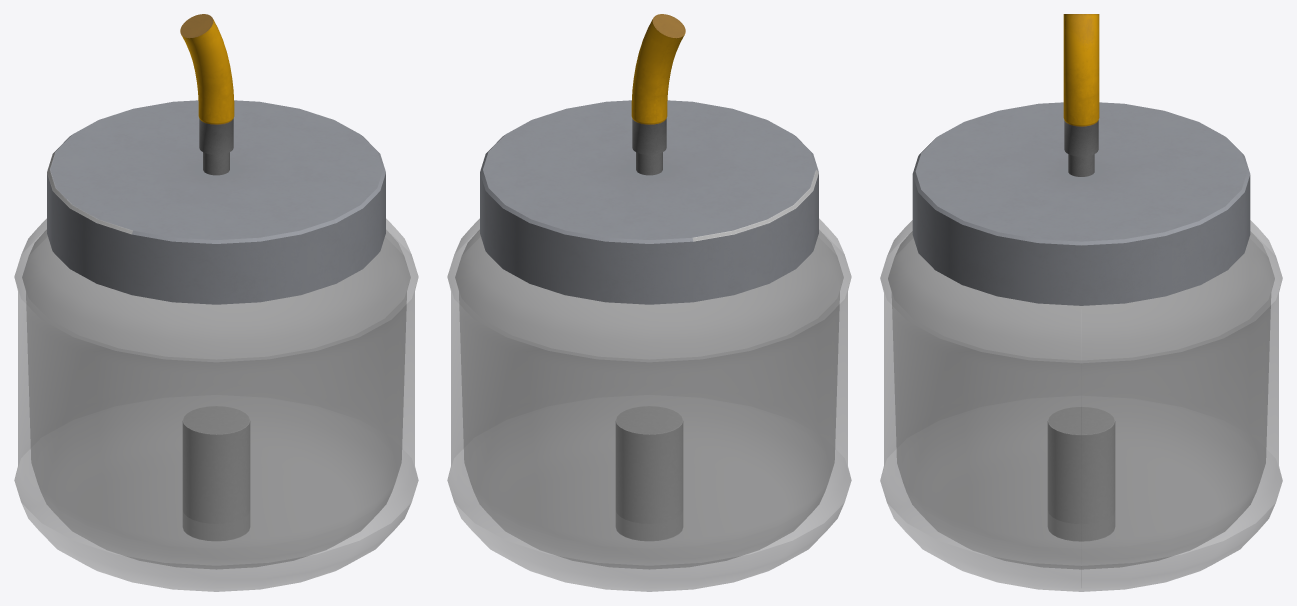
3 views of the same model, side by side, from view 1: azimuth 30°, elevation 25°; view 2: azimuth 150°, elevation 25°; view 3: azimuth 270°, elevation 25° (orthographic).
Parts seen in each view (by area): view 1: 303_JiaoZhu_ChouPaoJi_Shen, 303_JiaoZhu_ChouPaoJi_GaiZi, 303_JiaoZhu_ShiGao; view 2: 303_JiaoZhu_ChouPaoJi_Shen, 303_JiaoZhu_ChouPaoJi_GaiZi, 303_JiaoZhu_ShiGao; view 3: 303_JiaoZhu_ChouPaoJi_Shen, 303_JiaoZhu_ChouPaoJi_GaiZi, 303_JiaoZhu_ShiGao.
Boxes of the visible parts, <box> form: 303_JiaoZhu_ChouPaoJi_Shen: <box>14,218,418,591</box>; 303_JiaoZhu_ChouPaoJi_GaiZi: <box>47,14,385,304</box>; 303_JiaoZhu_ShiGao: <box>182,406,250,540</box>; 303_JiaoZhu_ChouPaoJi_Shen: <box>447,218,851,591</box>; 303_JiaoZhu_ChouPaoJi_GaiZi: <box>480,14,818,304</box>; 303_JiaoZhu_ShiGao: <box>615,406,683,540</box>; 303_JiaoZhu_ChouPaoJi_Shen: <box>880,220,1282,591</box>; 303_JiaoZhu_ChouPaoJi_GaiZi: <box>912,14,1250,305</box>; 303_JiaoZhu_ShiGao: <box>1047,406,1115,541</box>.
Size of the model in its own units: 18.36 by 25.68 by 18.36.
Materials: 2 (1 with a texture image).
